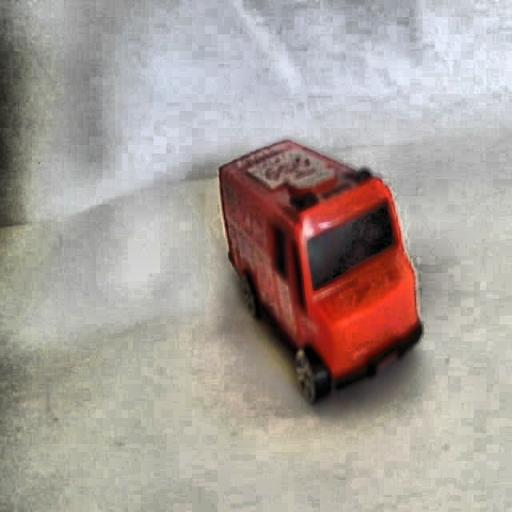fire_truck: (209, 124, 432, 410)
